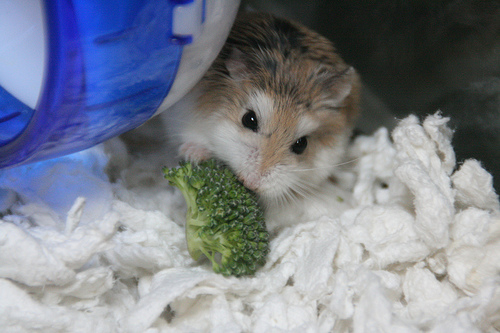broccoli: (160, 157, 269, 278)
